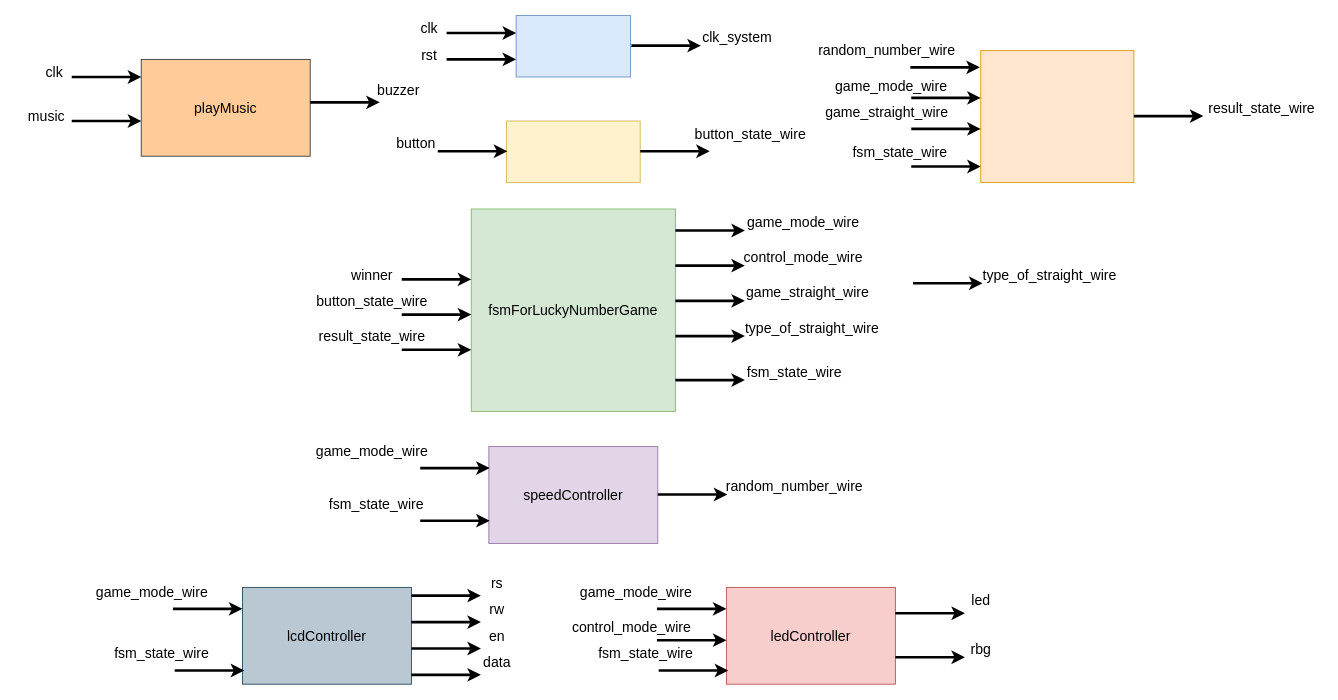
This 1338x700 diagram has some shape labels left out. The centre of each missing label's shape, as x and y in pixels:
"frequencyDivider" belongs at (573,46).
"fsmForButtonState" belongs at (573,151).
"resultChecker" belongs at (1057,116).
